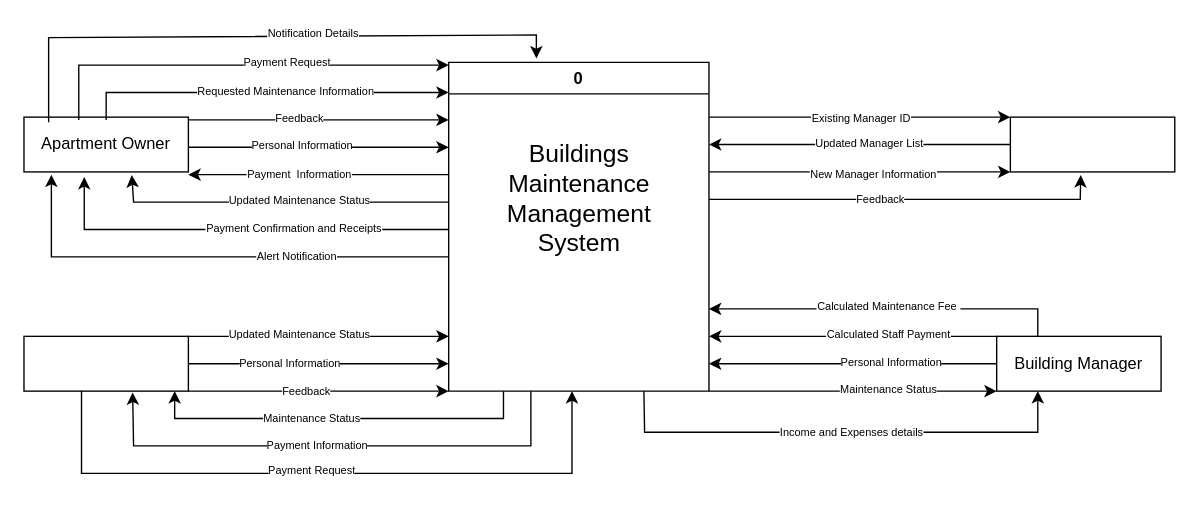
The diagram is 1199 pixels wide and 510 high, and some of its shapes have lost their labels. The shapes that lost their labels are listed below. From the top down, each one's centre as x and y in pixels, then its label:
At (x=1092, y=144): "Administrator".
At (x=105, y=363): "Maintenance Staff".
